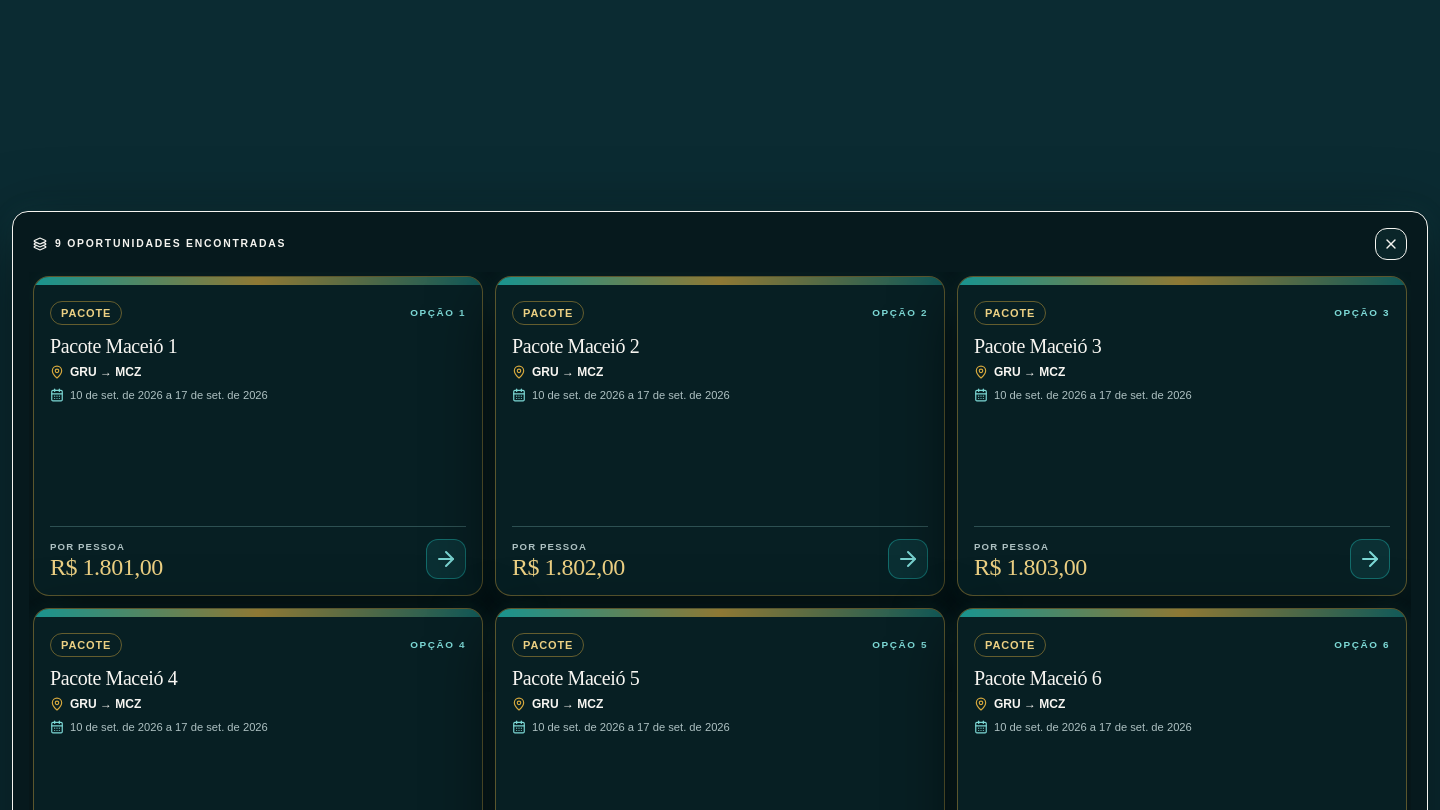
LiveOfferOverlay › apresenta até nove ofertas da mesma rodada de comparação e permite minimizar
This screenshot has width=1440, height=810.
Expected: the text "9 oportunidades encontradas" is shown, [33,236,286,251]
Click the button named "Minimizar ofertas encontradas" at [1391, 244], box [1375,228,1407,260]
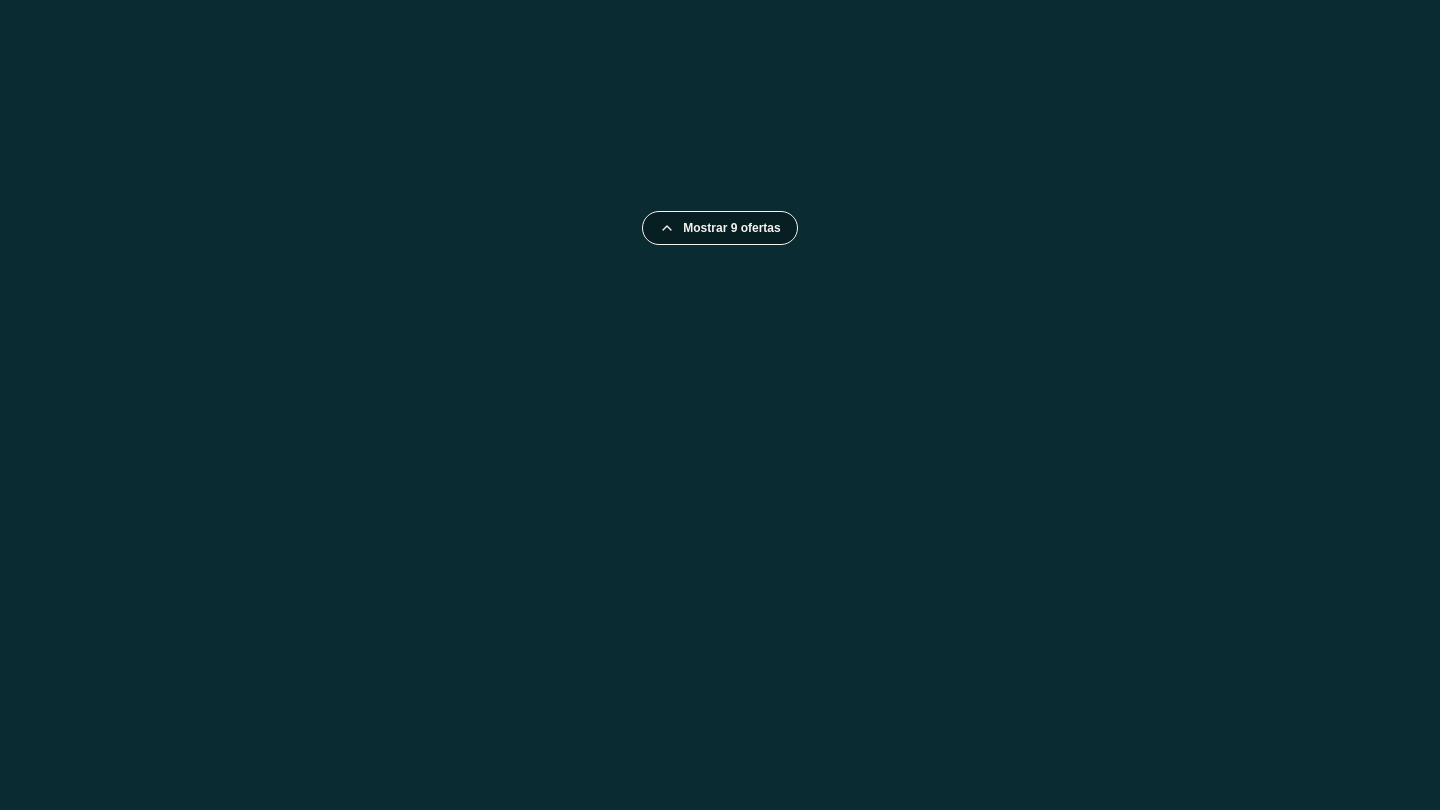
Click the button "Mostrar 9 ofertas" at [720, 228], box [642,211,798,245]
(page scrolled)
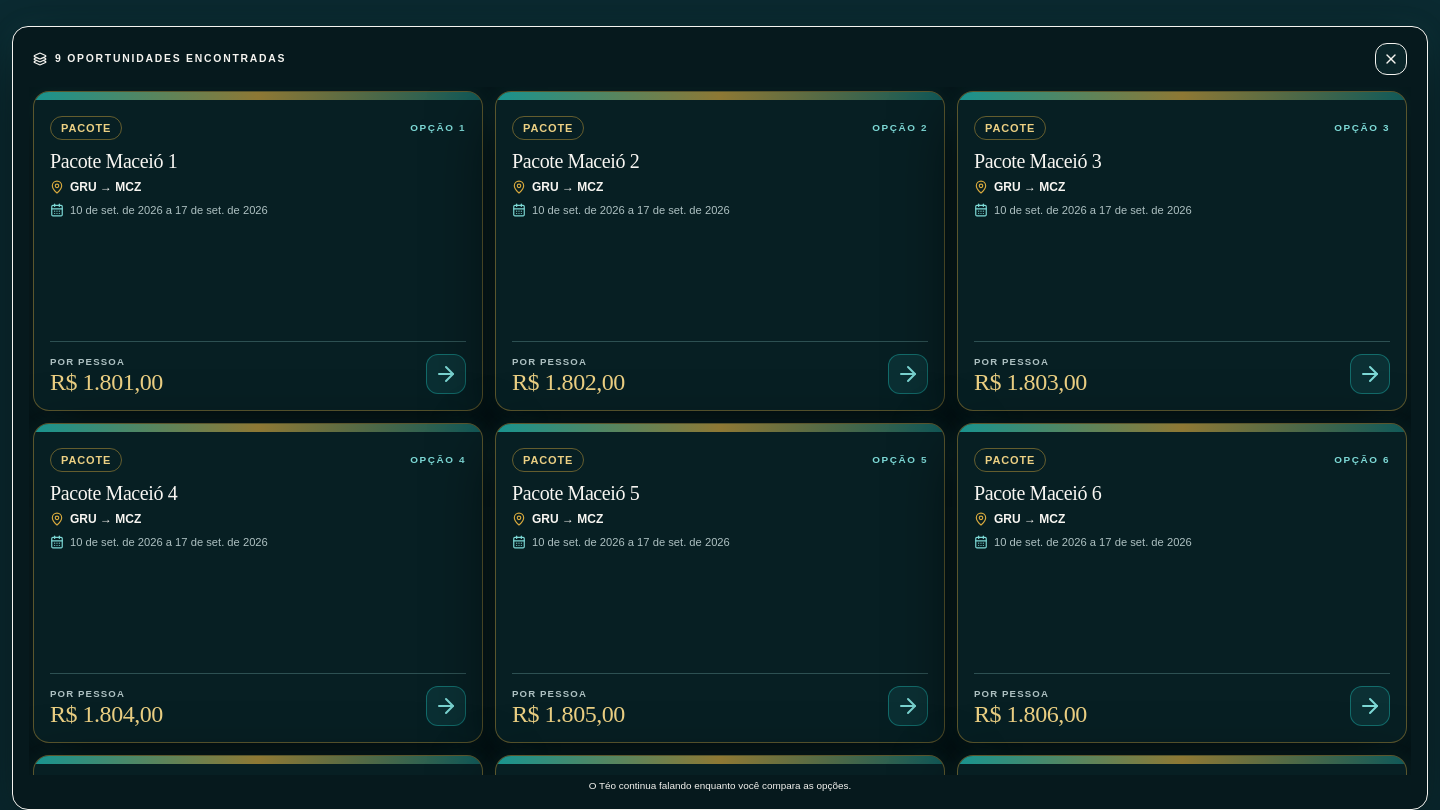
Expected: the element named "Ofertas encontradas pelo Téo" is shown
